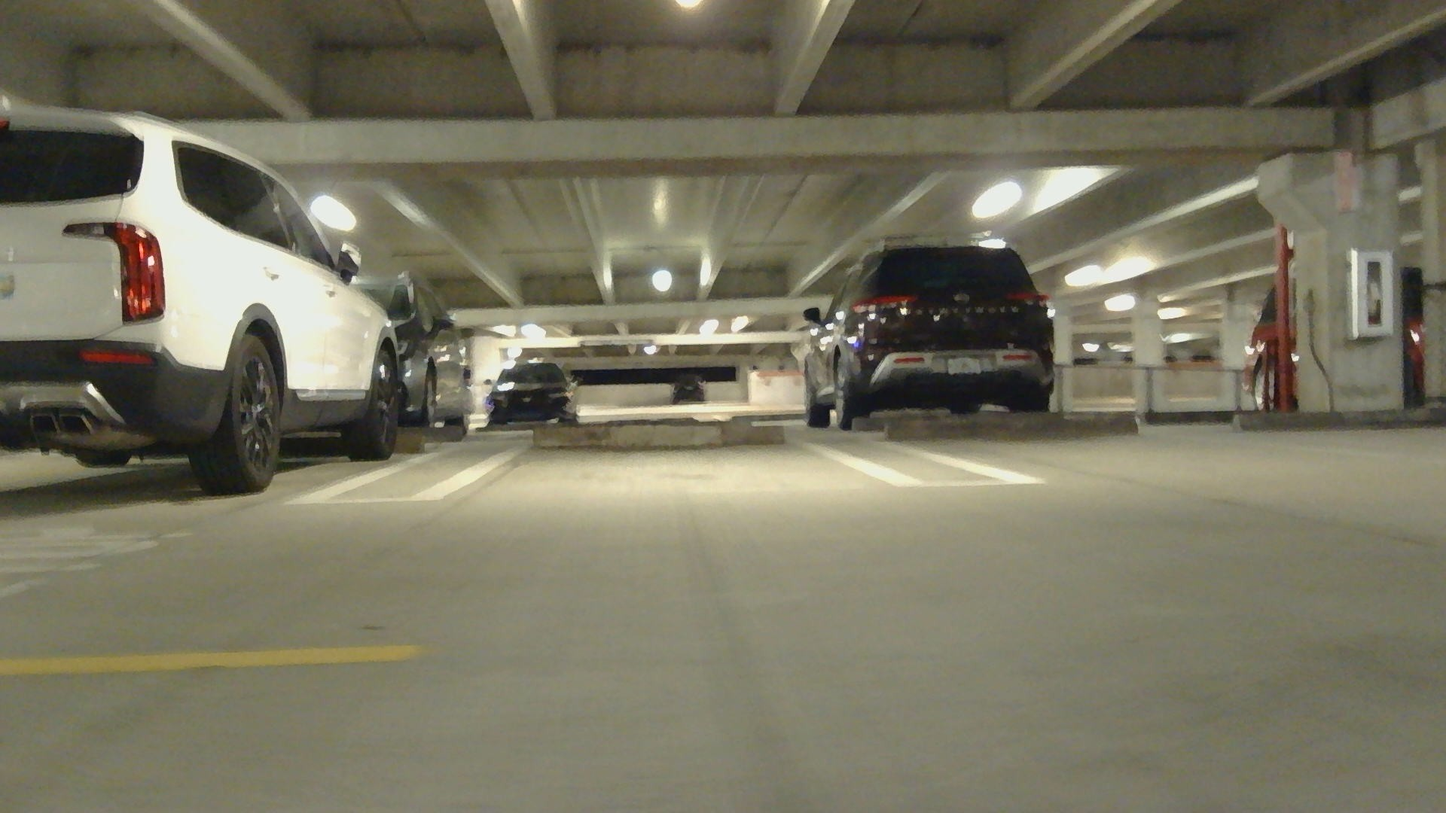empty_spot: (884, 401, 1433, 493), (436, 417, 909, 502)
occupied_spot: (4, 94, 398, 498)
